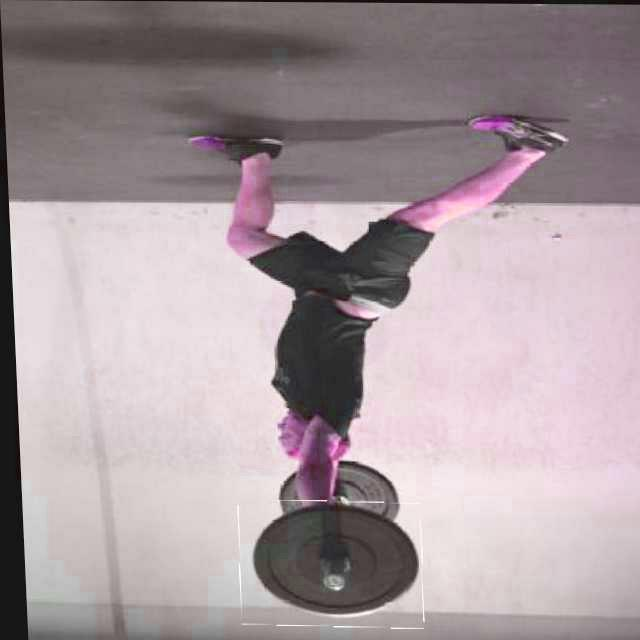barbell: (232, 500, 420, 627)
